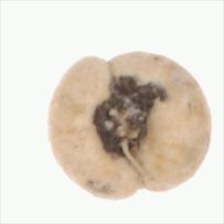L4: (48, 52, 212, 199)
